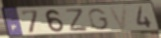4: (136, 5, 154, 30)
6: (44, 9, 66, 34)
7: (20, 9, 40, 35)
G: (87, 8, 110, 31)
V: (108, 6, 129, 31)
Z: (65, 7, 90, 32)
